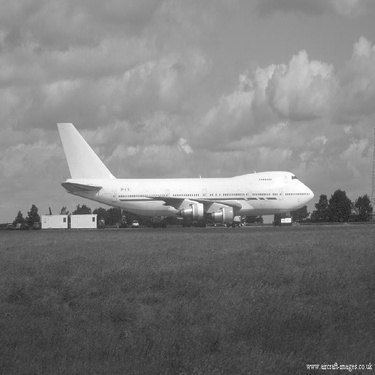airplane: (29, 93, 337, 244)
